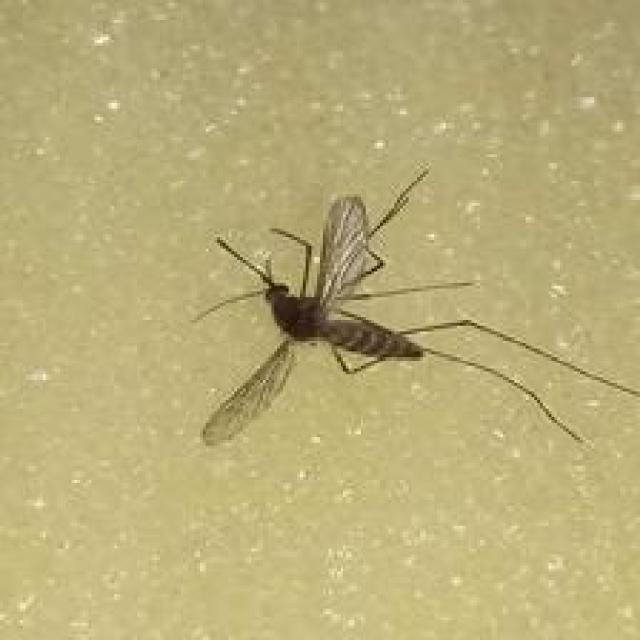Culex: (188, 165, 640, 451)
